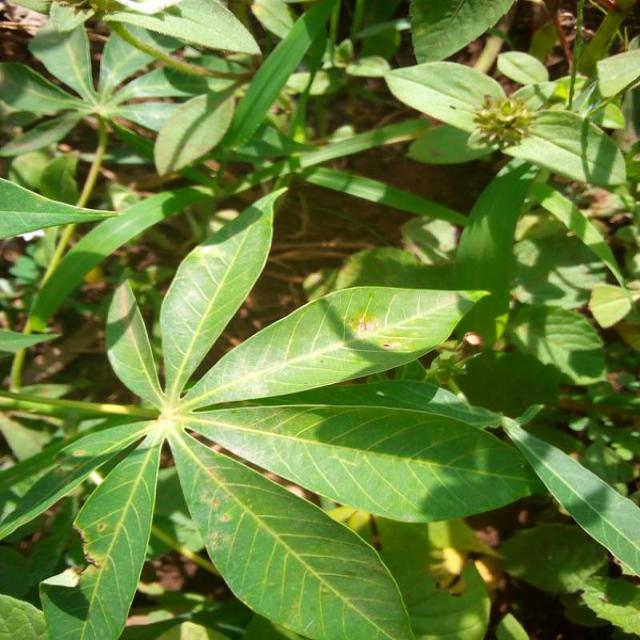cassava leaf: (3, 183, 636, 638)
